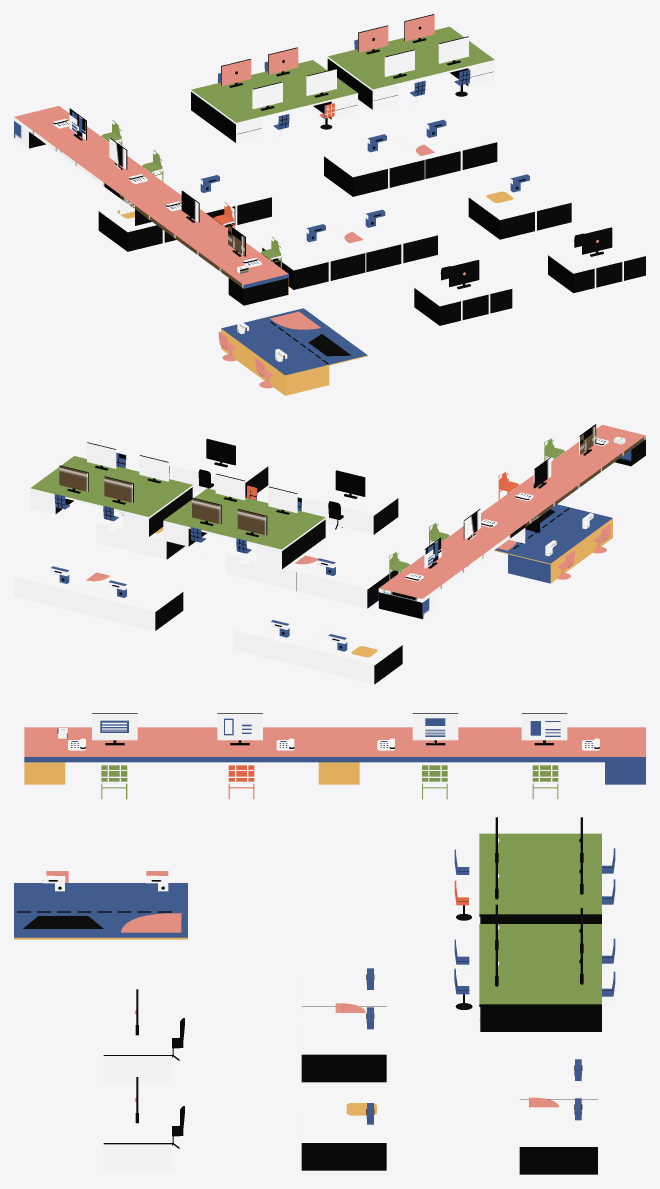
File: 服装厂 1.fbx
3 renders of one model, top to bottom at view 1: azimuth 30°, elevation 25°; view 2: azimuth 150°, elevation 25°; view 3: azimuth 270°, elevation 25°, orthographic. The views are drawn at different scales.
Parts seen in each view (by area): view 1: table_2_4, 桌子_3, 桌子_5, 桌子, 桌子_7, table_2, 桌子_4, 桌子_8, 桌子_9, 桌子_6, diannao__13, diannao__9 (+9 smaller); view 2: table_2_4, 桌子_3, 桌子_4, 桌子, table_2, 桌子_5, 桌子_7, 桌子_9, 桌子_6, 桌子_8, diannao__9, diannao__8 (+12 smaller); view 3: table_2_4, table_2, 桌子, 桌子_5, 桌子_3, 桌子_7, 桌子_8, 桌子_6, 桌子_9, diannao__3, diannao_, diannao__2 (+3 smaller).
Part boxes in pixels (box(x1,y1,x2,y2)): table_2_4: box(14, 106, 288, 305); 桌子_3: box(324, 120, 498, 196); 桌子_5: box(262, 211, 438, 289); 桌子: box(191, 60, 358, 142); 桌子_7: box(221, 308, 367, 395); table_2: box(327, 26, 494, 109); 桌子_4: box(98, 175, 272, 251); 桌子_8: box(468, 178, 572, 239); 桌子_9: box(414, 269, 512, 325); 桌子_6: box(548, 236, 645, 293); diannao__13: box(582, 227, 612, 256); diannao__9: box(449, 260, 479, 289); table_2_4: box(378, 425, 645, 619); 桌子_3: box(14, 556, 183, 630); 桌子_4: box(233, 609, 402, 684); 桌子: box(163, 488, 325, 569); table_2: box(30, 456, 192, 536); 桌子_5: box(226, 543, 397, 608); 桌子_7: box(494, 504, 612, 583); 桌子_9: box(303, 480, 398, 534); 桌子_6: box(173, 448, 268, 497); 桌子_8: box(96, 510, 184, 559); diannao__9: box(335, 470, 365, 498); diannao__8: box(237, 509, 267, 537); table_2_4: box(24, 727, 645, 784); table_2: box(479, 924, 601, 1031); 桌子: box(479, 833, 601, 923); 桌子_5: box(301, 959, 386, 1082); 桌子_3: box(519, 1051, 597, 1174); 桌子_7: box(14, 883, 187, 939); 桌子_8: box(301, 1095, 386, 1170); 桌子_6: box(103, 1095, 171, 1170); 桌子_9: box(103, 1007, 171, 1082); diannao__3: box(521, 713, 567, 745); diannao_: box(412, 713, 458, 745); diannao__2: box(92, 713, 137, 745).
Size of the model in its own units: 1688 by 523 by 1561.
